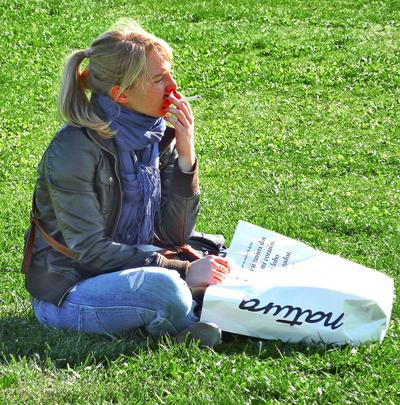person: (20, 20, 232, 351)
